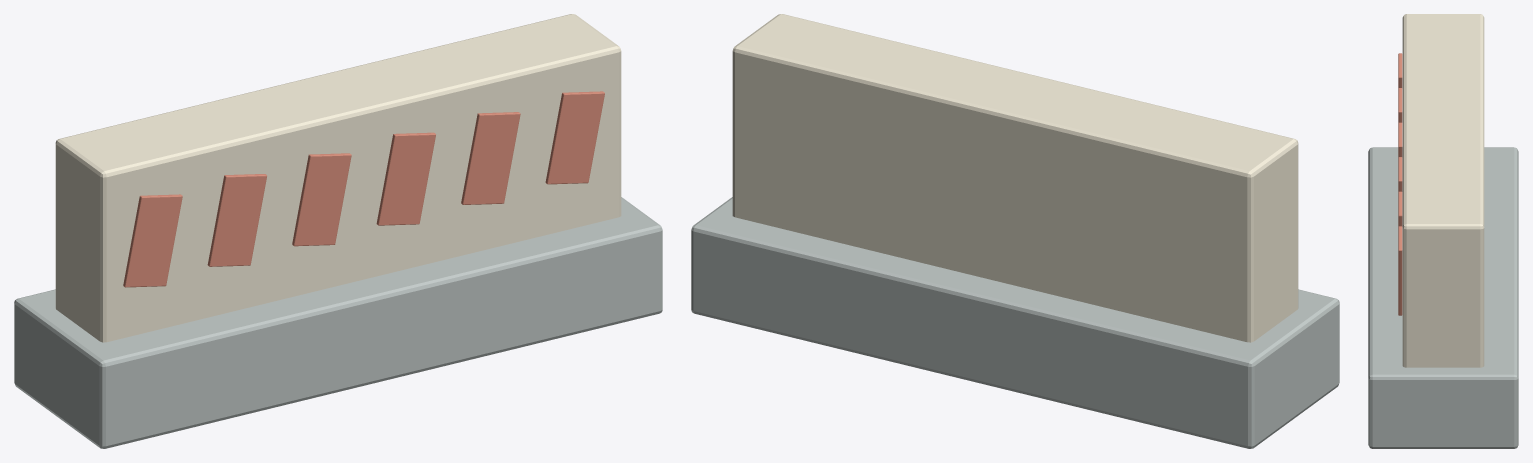
3 views of the same model, side by side, from view 1: azimuth 30°, elevation 25°; view 2: azimuth 150°, elevation 25°; view 3: azimuth 270°, elevation 25° (orthographic). The views are drawn at different scales.
Visible parts, largest first — view 1: concrete barrier, concrete foot, hazard marker, hazard marker.005, hazard marker.003, hazard marker.002, hazard marker.004, hazard marker.001; view 2: concrete barrier, concrete foot; view 3: concrete barrier, concrete foot, hazard marker.005, hazard marker.004, hazard marker.001, hazard marker.003, hazard marker, hazard marker.002.
Boxes of the visible parts, x1,y1,x2,y2 form: concrete barrier: (55,14,621,342); concrete foot: (14,197,662,448); hazard marker: (123,194,182,287); hazard marker.005: (545,91,604,184); hazard marker.003: (376,132,435,225); hazard marker.002: (292,153,351,246); hazard marker.004: (461,112,520,204); hazard marker.001: (207,174,266,266); concrete barrier: (732,14,1298,342); concrete foot: (691,197,1339,448); concrete barrier: (1402,14,1484,367); concrete foot: (1368,147,1518,448); hazard marker.005: (1398,226,1402,315); hazard marker.004: (1398,191,1402,226); hazard marker.001: (1398,88,1402,122); hazard marker.003: (1398,157,1402,191); hazard marker: (1398,53,1402,87); hazard marker.002: (1398,122,1402,157).
Size of the model in its own units: 2 by 0.875 by 0.55.
